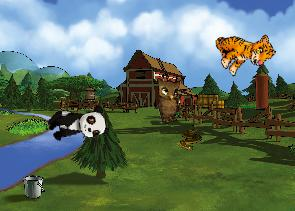owl: (151, 73, 190, 125)
panda: (45, 104, 109, 144)
tiger: (209, 17, 278, 82)
